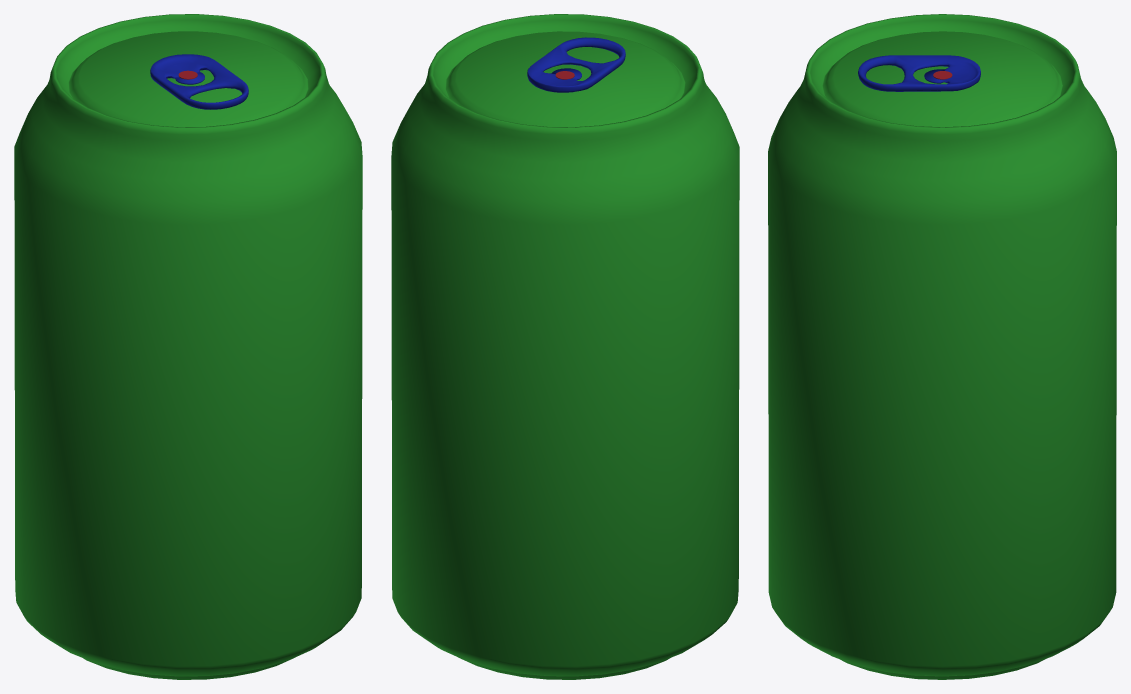
Rendered from CanLow.fbx.
The picture shows the model from 3 angles, left to right: view 1: azimuth 30°, elevation 25°; view 2: azimuth 150°, elevation 25°; view 3: azimuth 270°, elevation 25°; orthographic projection.
Visible parts, largest first — view 1: CanBody_LOW, CanOpener_LOW; view 2: CanBody_LOW, CanOpener_LOW; view 3: CanBody_LOW, CanOpener_LOW.
Boxes of the visible parts, x1,y1,x2,y2 form: CanBody_LOW: (14, 14, 362, 679); CanOpener_LOW: (150, 54, 248, 109); CanBody_LOW: (391, 14, 739, 679); CanOpener_LOW: (527, 37, 625, 92); CanBody_LOW: (768, 14, 1116, 679); CanOpener_LOW: (858, 55, 980, 91).
Bounding box in the file's own units: 258 × 453 × 259.
